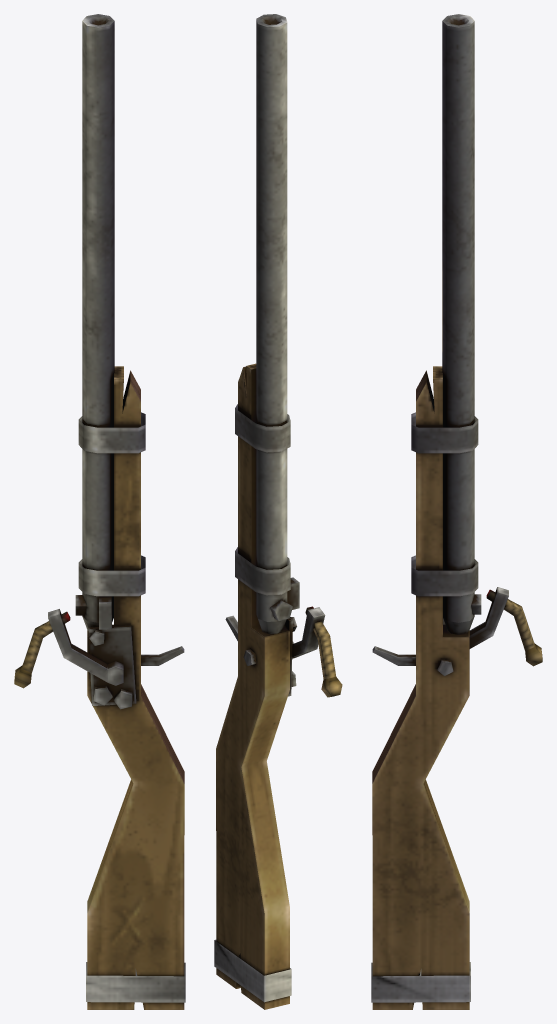
File: crude_musket.fbx
3 renders of one model, left to right at view 1: azimuth 90°, elevation 25°; view 2: azimuth 210°, elevation 25°; view 3: azimuth 270°, elevation 25°, orthographic.
Visible parts, largest first — view 1: pz_crude_musket; view 2: pz_crude_musket; view 3: pz_crude_musket.
Boxes of the visible parts, <box> form: pz_crude_musket: <box>14,14,185,1009</box>; pz_crude_musket: <box>214,14,342,1009</box>; pz_crude_musket: <box>371,14,542,1009</box>.
Bounding box in the file's own units: 0.0341 × 0.685 × 0.1081.
1 material, 1 textured.
